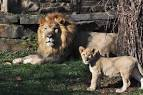lion: (32, 6, 115, 64), (76, 43, 142, 95)
